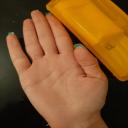OpenPalm: (6, 8, 106, 123)
